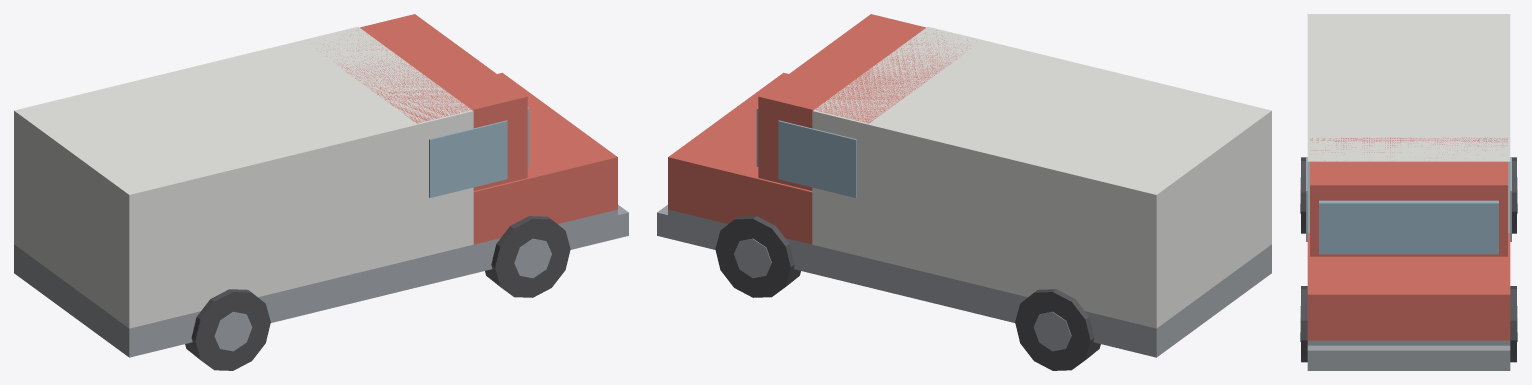
Rendered from dm_panelvan.glb.
3 renders of one model, left to right at view 1: azimuth 30°, elevation 25°; view 2: azimuth 150°, elevation 25°; view 3: azimuth 270°, elevation 25°, orthographic. The views are drawn at different scales.
Parts seen in each view (by area): view 1: Van; view 2: Van; view 3: Van.
Boxes of the visible parts, bbox=[...] form: Van: bbox=[14, 14, 628, 370]; Van: bbox=[657, 14, 1271, 370]; Van: bbox=[1300, 14, 1517, 370].
Bounding box in the file's own units: 4.5 × 1.7 × 1.93.
